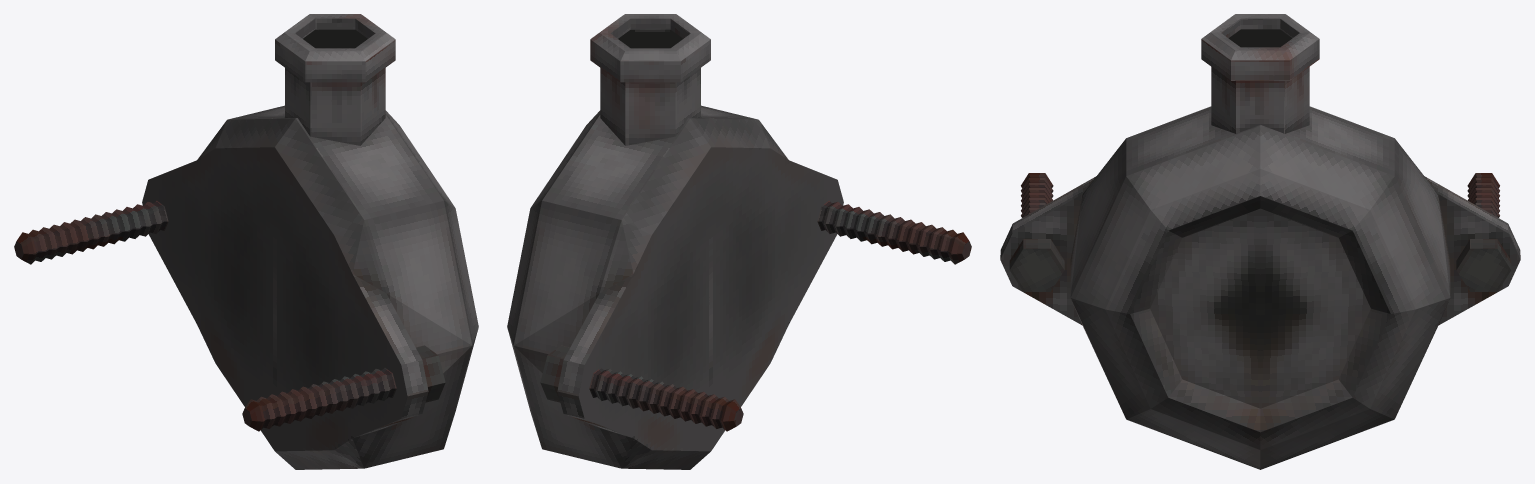
File: SwitchHousing.glb
3 views of the same model, side by side, from view 1: azimuth 30°, elevation 25°; view 2: azimuth 150°, elevation 25°; view 3: azimuth 270°, elevation 25° (orthographic). The views are drawn at different scales.
Parts seen in each view (by area): view 1: Cylinder.007; view 2: Cylinder.007; view 3: Cylinder.007.
Boxes of the visible parts, bbox=[...] form: Cylinder.007: bbox=[14, 14, 478, 469]; Cylinder.007: bbox=[507, 14, 971, 469]; Cylinder.007: bbox=[1000, 14, 1520, 469].
Bounding box in the file's own units: 0.8879 × 1.31 × 1.48.
3 materials, 3 textured.
